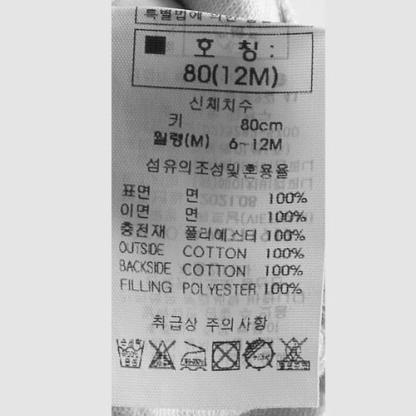KR_flat_dry_in_shade: (242, 338, 276, 371)
KR_hand_wash_30_neutral: (115, 334, 144, 370)
KR_no_chlorine_bleach: (148, 338, 178, 374)
KR_no_tumble_dry: (209, 337, 242, 374)
